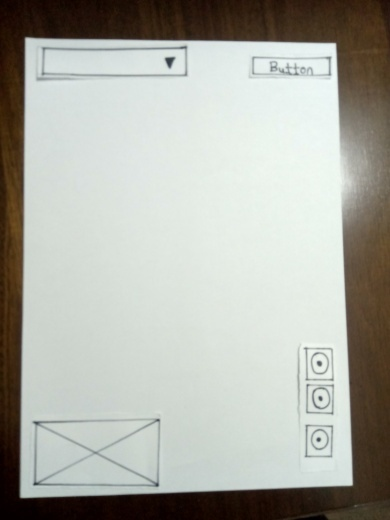button: (251, 59, 327, 75)
dropdown: (43, 49, 186, 75)
img: (36, 420, 158, 486)
radio: (304, 349, 334, 378), (303, 428, 333, 457), (306, 385, 336, 414)
